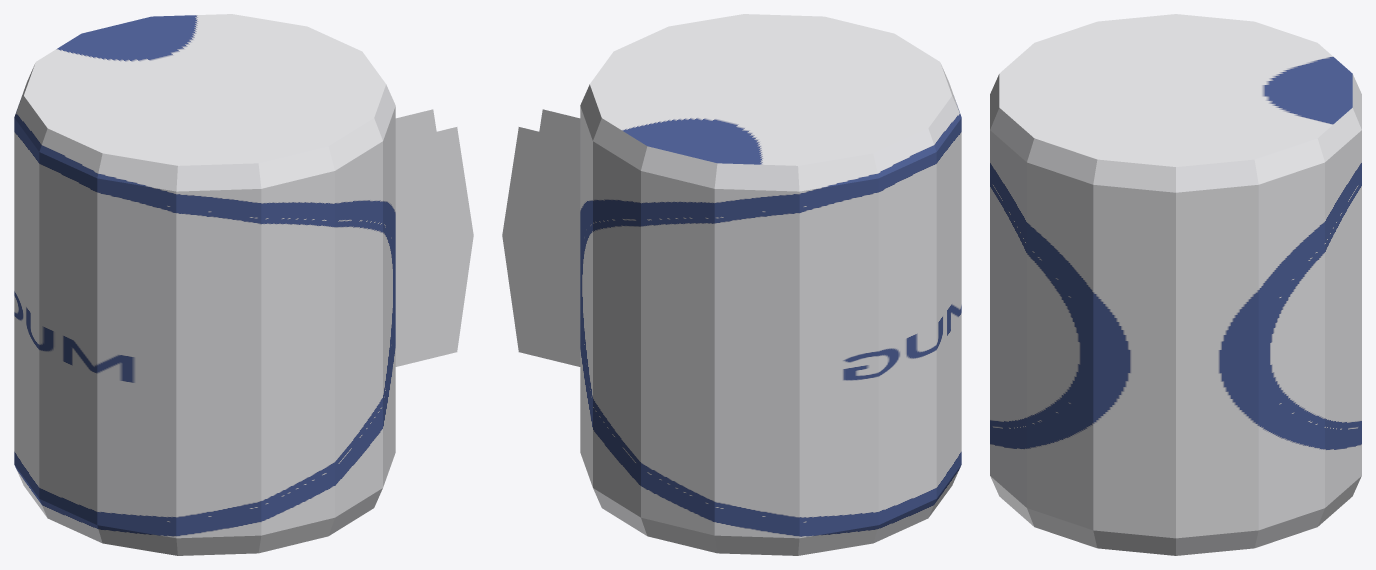
Rendered from mug.obj.
The picture shows the model from 3 angles, left to right: view 1: azimuth 30°, elevation 25°; view 2: azimuth 150°, elevation 25°; view 3: azimuth 270°, elevation 25°; orthographic projection.
Visible parts, largest first — view 1: mug; view 2: mug; view 3: mug.
Boxes of the visible parts, <box> form: mug: <box>14,14,473,555</box>; mug: <box>502,14,961,555</box>; mug: <box>990,14,1361,555</box>.
Bounding box in the file's own units: 0.102 × 0.09 × 0.078.
Materials: 1 (1 with a texture image).
